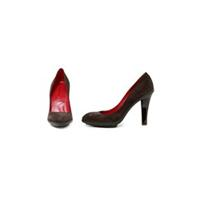shoe: (82, 72, 154, 128), (48, 68, 73, 126)
